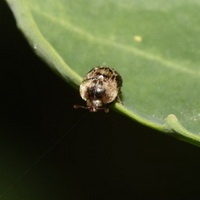insect: (74, 66, 122, 111)
